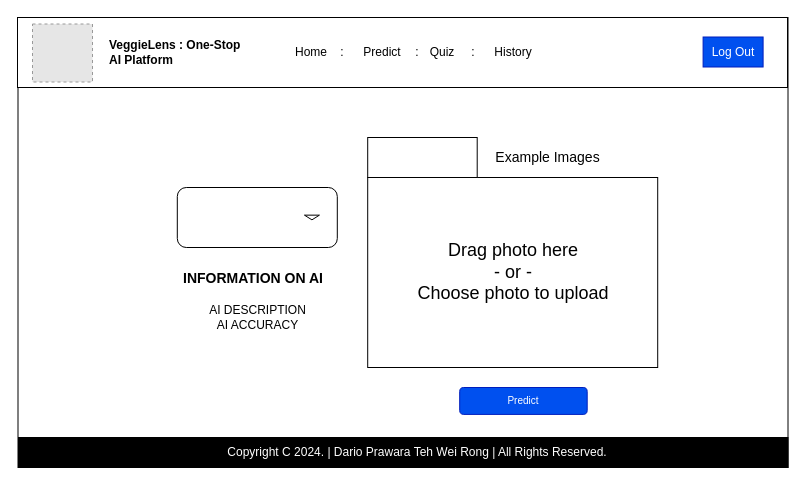
Some shapes in this 806 by 485 pixel diagram are drawn without their labels. Grey dashed boxes stand in for pictures. Each missing label, with the centre of its shape:
Choose Files: [422,157]
Select AI: [256,217]
